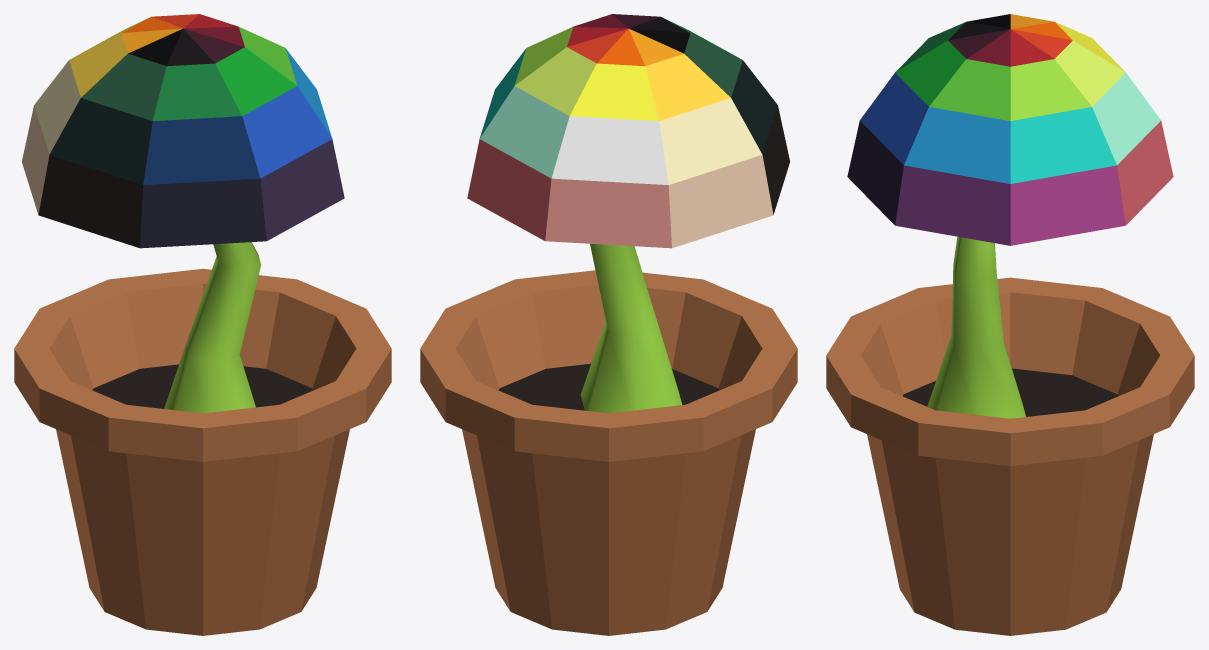
Rendered from MM_Plant_C_Pot.fbx.
3 views of the same model, side by side, from view 1: azimuth 30°, elevation 25°; view 2: azimuth 150°, elevation 25°; view 3: azimuth 270°, elevation 25° (orthographic). The views are drawn at different scales.
Visible parts, largest first — view 1: Cylinder.008; view 2: Cylinder.008; view 3: Cylinder.008.
Boxes of the visible parts, x1,y1,x2,y2 form: Cylinder.008: (14, 14, 391, 635); Cylinder.008: (420, 14, 797, 635); Cylinder.008: (826, 14, 1194, 635).
Bounding box in the file's own units: 23.63 × 38.84 × 23.55.
